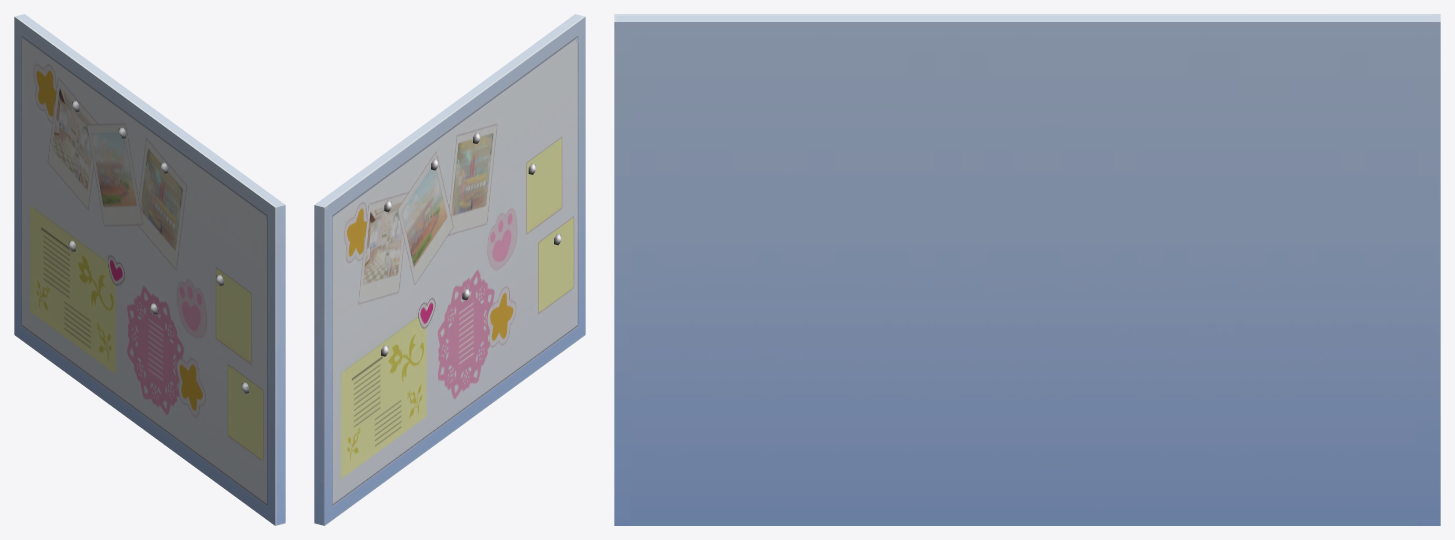
The model's file is my_defaultroom_board.glb.
The picture shows the model from 3 angles, left to right: view 1: azimuth 30°, elevation 25°; view 2: azimuth 150°, elevation 25°; view 3: azimuth 270°, elevation 25°; orthographic projection. The views are drawn at different scales.
Parts seen in each view (by area): view 1: my_defaultroom_board; view 2: my_defaultroom_board; view 3: my_defaultroom_board.
Boxes of the visible parts, <box> form: my_defaultroom_board: <box>14,14,285,525</box>; my_defaultroom_board: <box>314,14,585,525</box>; my_defaultroom_board: <box>614,14,1440,525</box>.
Bounding box in the file's own units: 0.000547 × 0.0108 × 0.0161.
Materials: 1 (1 with a texture image).
